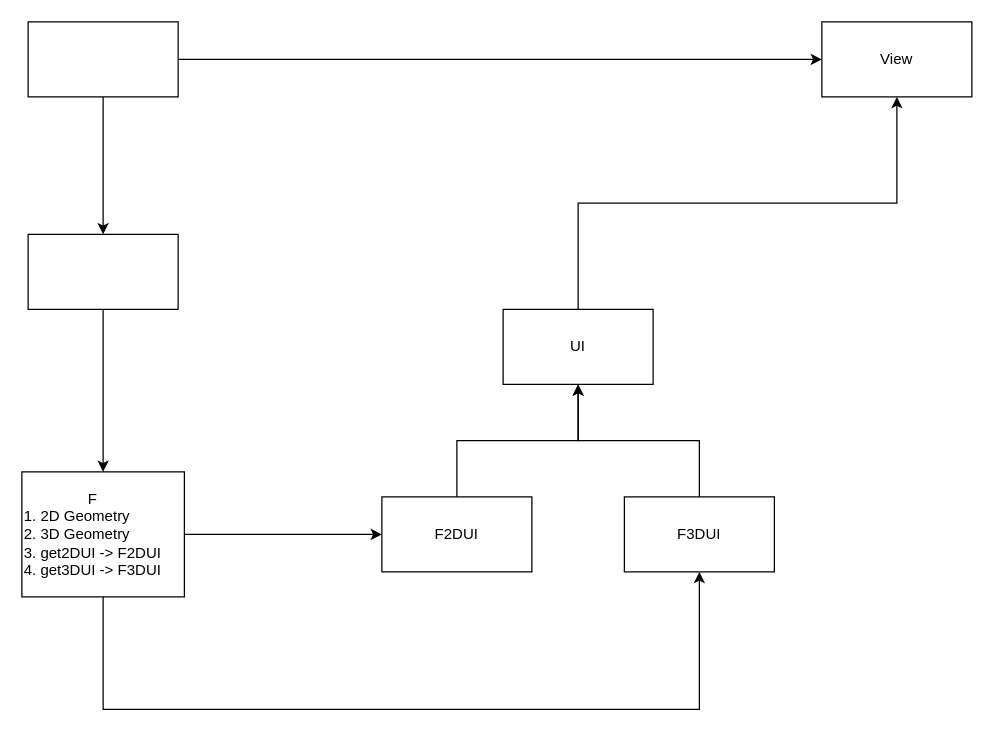
Some shapes in this 994 by 741 pixel diagram are drawn without their labels. The shapes that lost their labels are listed below. From the top down, each one's box as (x1, y1, x2, y2) in pixels, then its label:
(27, 21, 178, 97): DataBox
(27, 233, 178, 309): DataModel
